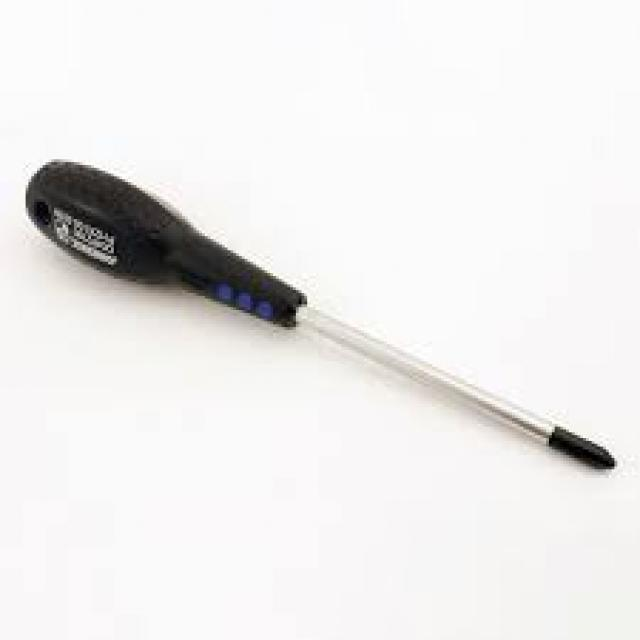screwdriver: (20, 152, 626, 479)
